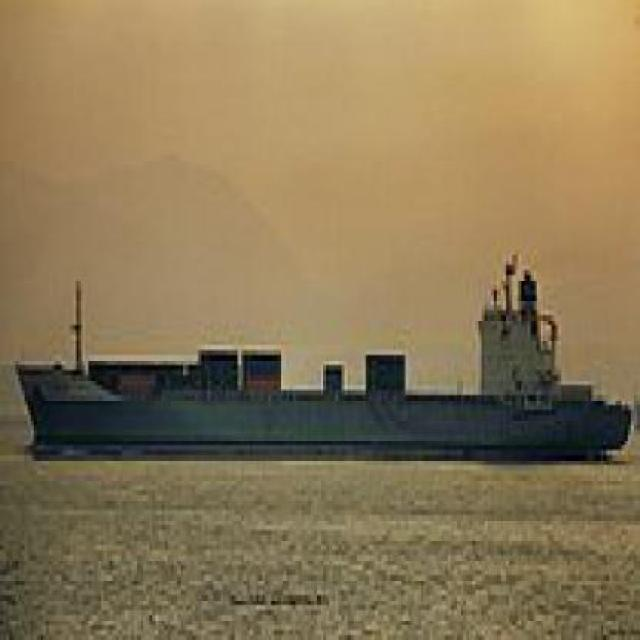container: (13, 260, 638, 471)
